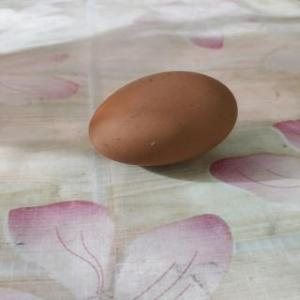egg: (86, 67, 241, 169)
